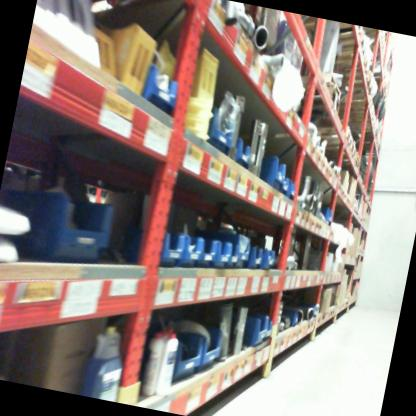pallet: (279, 59, 349, 104), (295, 16, 370, 58), (308, 64, 380, 101), (287, 78, 346, 122), (307, 133, 360, 166), (306, 121, 356, 150), (322, 51, 374, 77), (315, 147, 365, 171)
